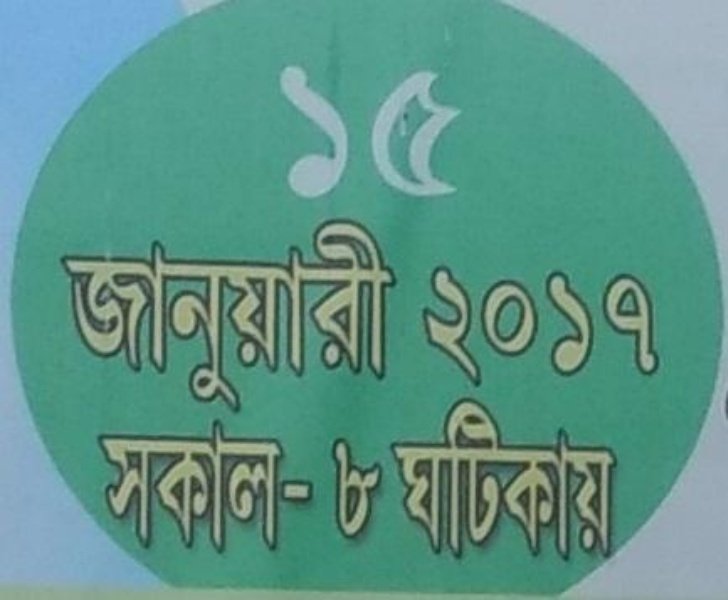text: (65, 212, 80, 419), (81, 212, 96, 419), (97, 212, 112, 419), (113, 212, 128, 419), (129, 212, 144, 419), (145, 212, 160, 419), (161, 212, 176, 419), (177, 212, 192, 419), (193, 212, 208, 419), (209, 212, 224, 419), (225, 212, 240, 419), (241, 212, 256, 419), (257, 212, 272, 419), (273, 212, 288, 419), (289, 212, 304, 419), (305, 212, 320, 419), (321, 212, 336, 419), (337, 212, 352, 419), (353, 212, 368, 419), (369, 212, 384, 419), (385, 212, 400, 419), (401, 395, 416, 569), (417, 395, 432, 569), (433, 395, 448, 569), (449, 395, 464, 569), (465, 395, 480, 569), (481, 395, 496, 569), (497, 395, 512, 569), (513, 395, 528, 569), (529, 395, 544, 569), (545, 395, 560, 569), (561, 395, 576, 569), (577, 395, 592, 569), (593, 395, 608, 569), (609, 395, 624, 569), (386, 395, 400, 569), (273, 51, 288, 209), (289, 51, 304, 209), (305, 51, 320, 209), (321, 51, 336, 209), (337, 51, 352, 209), (353, 51, 368, 209), (369, 51, 384, 209), (385, 51, 400, 209), (401, 51, 416, 209), (417, 51, 432, 209), (433, 51, 448, 209), (449, 51, 464, 209), (465, 51, 480, 209), (113, 419, 128, 567), (129, 419, 144, 567), (145, 419, 160, 567), (161, 419, 176, 567), (177, 419, 192, 567), (193, 419, 208, 567), (209, 419, 224, 567), (225, 419, 240, 567), (241, 419, 256, 567), (257, 419, 272, 567), (273, 419, 288, 567), (289, 419, 304, 567), (98, 419, 112, 567), (259, 51, 272, 209), (417, 261, 432, 394), (433, 261, 448, 394), (449, 261, 464, 394), (465, 261, 480, 394), (481, 261, 496, 394), (497, 261, 512, 394), (513, 261, 528, 394), (529, 261, 544, 394), (545, 261, 560, 394), (561, 261, 576, 394), (577, 261, 592, 394), (593, 261, 608, 394), (609, 261, 624, 394), (625, 261, 640, 394), (641, 261, 656, 394), (305, 419, 318, 567), (337, 427, 352, 550), (353, 427, 368, 550), (369, 427, 384, 550), (56, 212, 64, 419), (401, 212, 409, 419), (327, 427, 336, 550), (657, 261, 665, 394), (385, 427, 392, 550), (481, 51, 486, 209), (625, 395, 628, 569), (414, 261, 416, 394)
